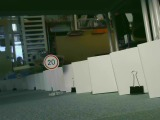speed_20: (43, 54, 59, 69)
